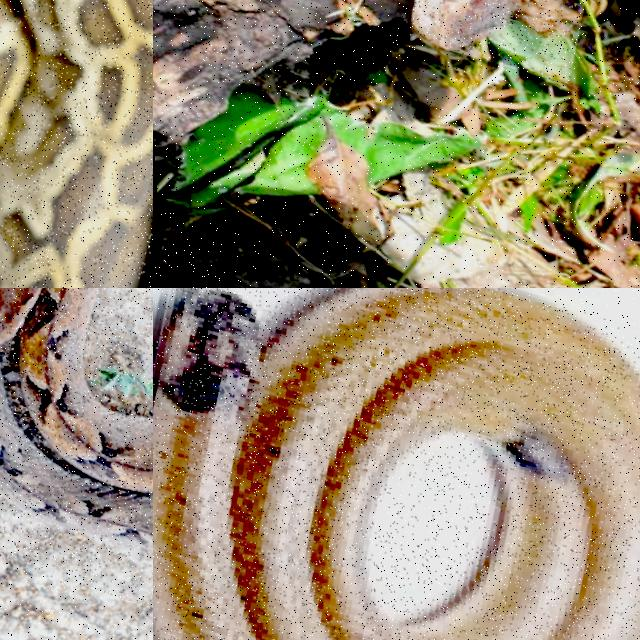Calliophis maculiceps: (153, 288, 639, 639)
Calloselasma rhodostoma: (0, 288, 152, 550), (411, 0, 515, 49)
Python bivittatus: (0, 0, 152, 287)
snake: (153, 288, 639, 639), (0, 0, 152, 287), (0, 288, 152, 550), (411, 0, 515, 49)
